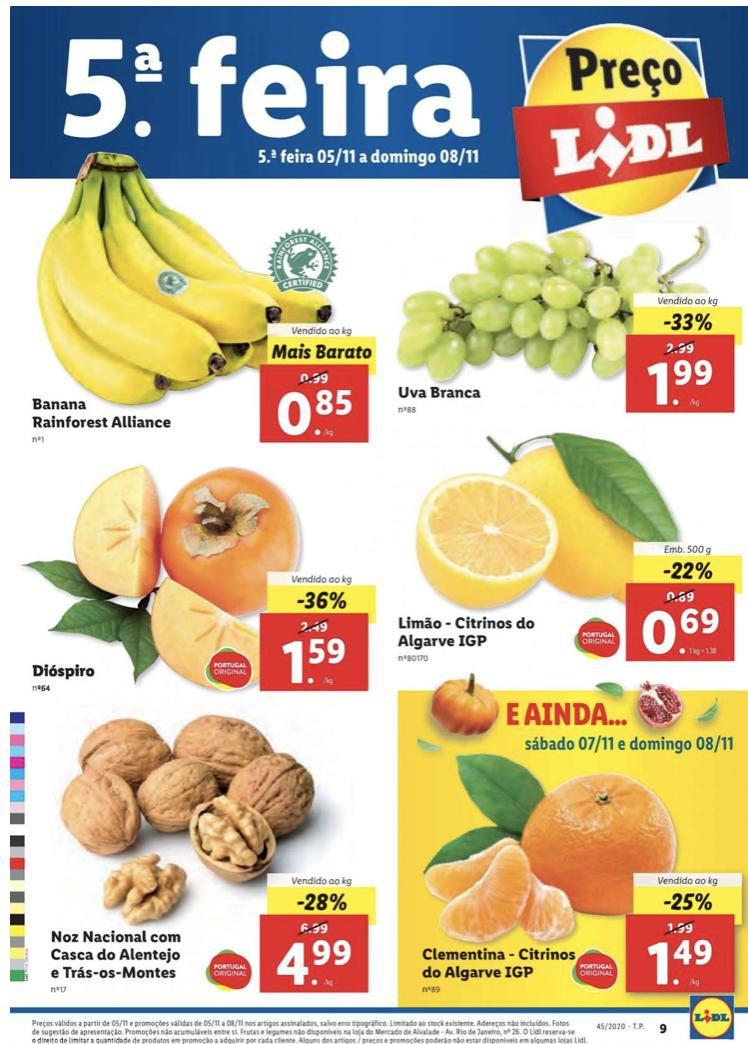name: (49, 927, 185, 982), (416, 944, 581, 983), (29, 393, 176, 435), (392, 611, 542, 652), (394, 380, 489, 406), (25, 660, 98, 683)
price: (641, 601, 725, 662), (274, 937, 358, 992), (275, 383, 359, 437), (278, 635, 350, 689), (645, 936, 715, 991), (646, 356, 715, 410)
product: (25, 147, 389, 462), (32, 709, 385, 1005), (370, 178, 745, 421), (387, 421, 745, 670), (14, 460, 387, 698), (414, 756, 744, 997)
promotion: (290, 888, 350, 915), (290, 587, 348, 614), (662, 557, 716, 586), (659, 309, 718, 335), (657, 889, 718, 914)
